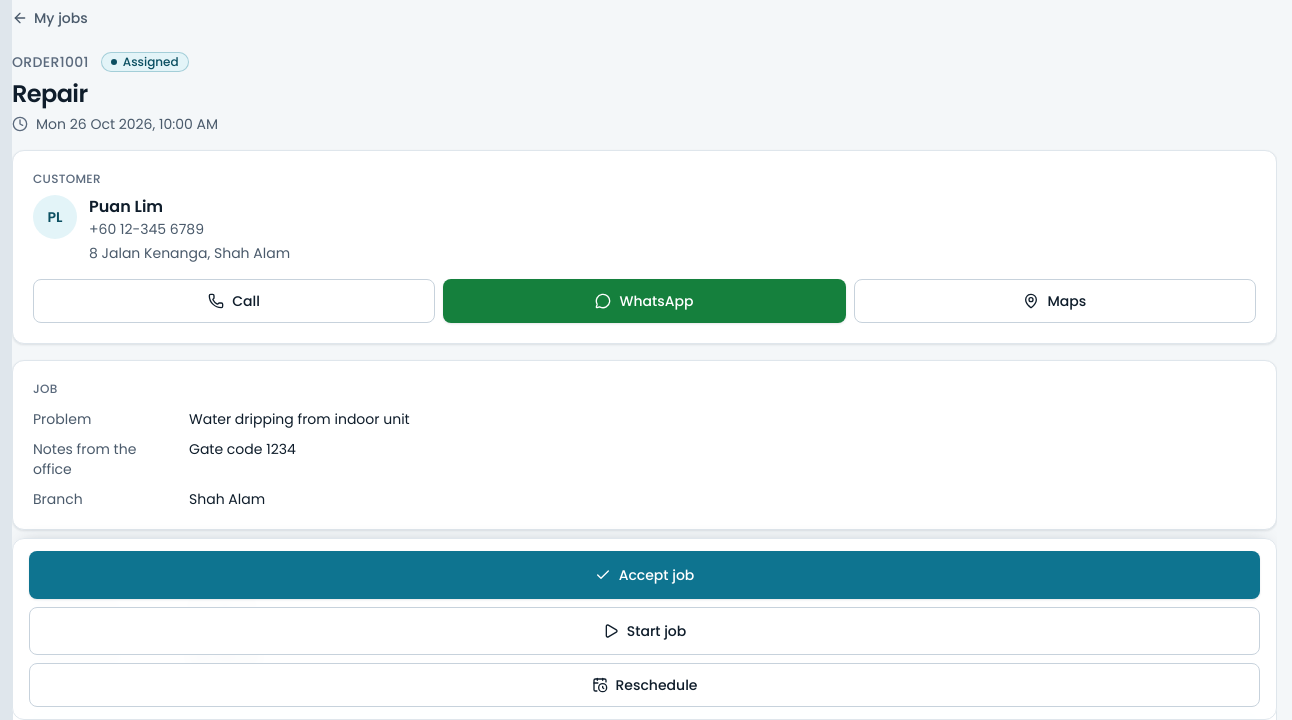
Test: Accept and start (AC4) › shows the database message when an action fails
Click the button "Accept job" at (644, 575), box left=29, top=551, right=1260, bottom=599
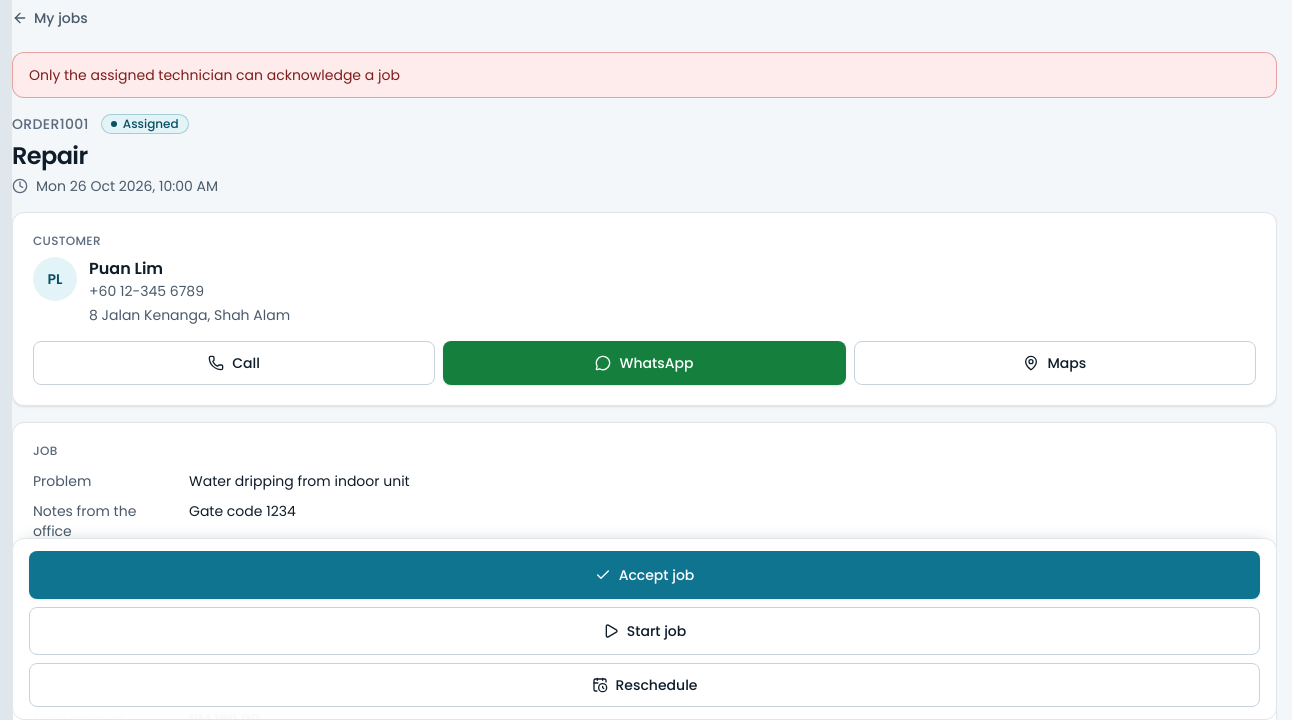
Expected: the message reads "Only the assigned technician can acknowledge a job", left=29, top=65, right=400, bottom=85
